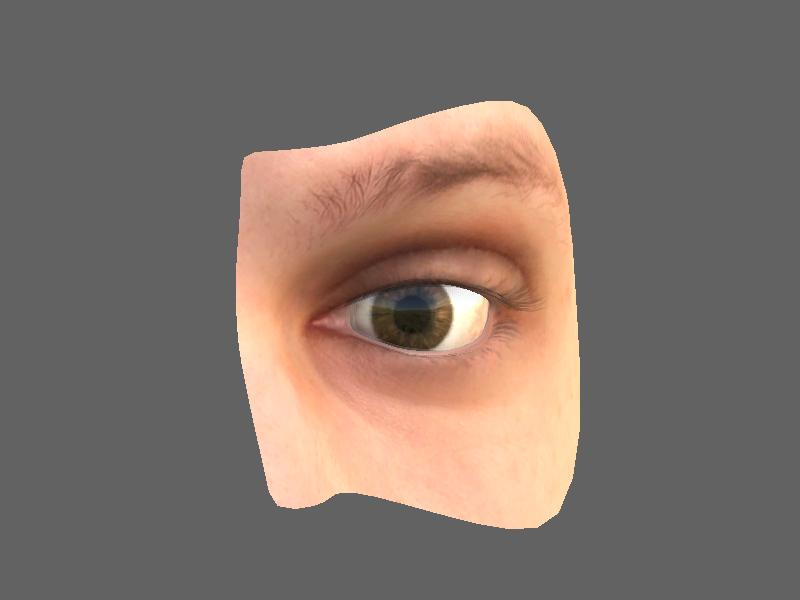iris: (372, 285, 454, 351)
